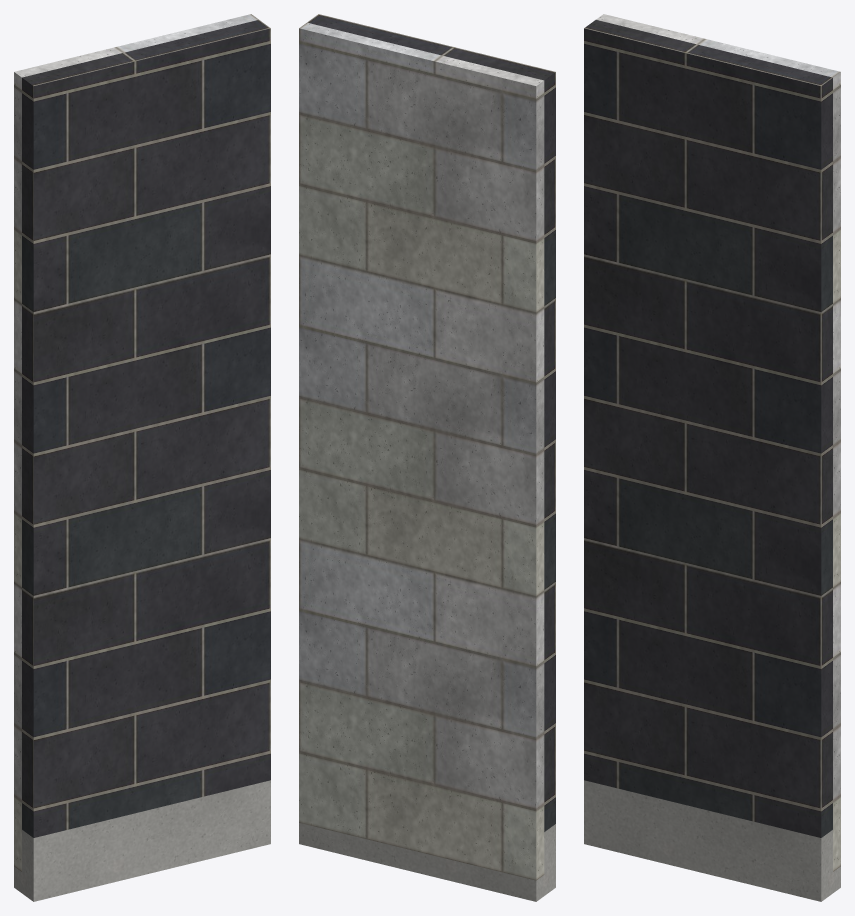
The model's file is k_plain_l.glb.
The picture shows the model from 3 angles, left to right: view 1: azimuth 30°, elevation 25°; view 2: azimuth 150°, elevation 25°; view 3: azimuth 330°, elevation 25°; orthographic projection.
Visible parts, largest first — view 1: k_plain_l_block_d, k_plain_l_concrete, k_plain_l_block_l; view 2: k_plain_l_block_l, k_plain_l_block_d, k_plain_l_concrete; view 3: k_plain_l_block_d, k_plain_l_concrete, k_plain_l_block_l.
Part boxes in pixels (x1,y1,x2,y2): k_plain_l_block_d: (22,20,270,837); k_plain_l_concrete: (14,780,270,901); k_plain_l_block_l: (14,14,258,871); k_plain_l_block_l: (299,22,544,880); k_plain_l_block_d: (307,14,555,831); k_plain_l_concrete: (299,823,555,901); k_plain_l_block_d: (584,20,832,837); k_plain_l_concrete: (584,780,840,901); k_plain_l_block_l: (596,14,840,871).
Size of the model in its own units: 1.75 by 5.75 by 0.25.
Materials: 3 (3 with a texture image).
